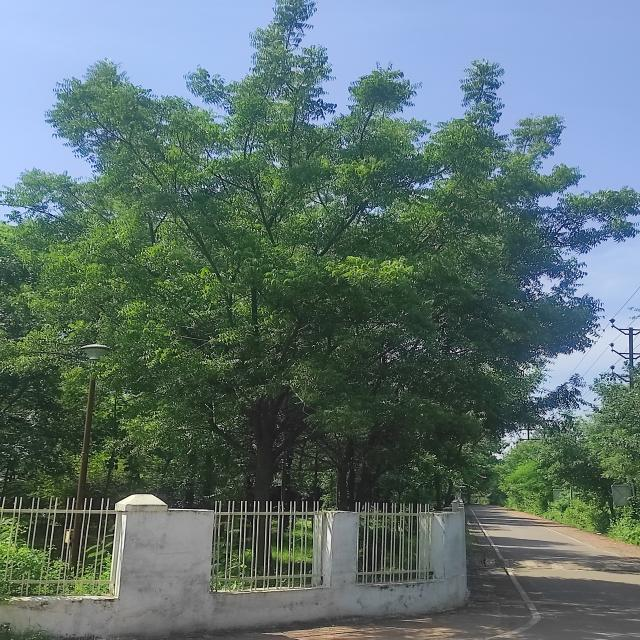Neem-Tree: (61, 27, 480, 477)
